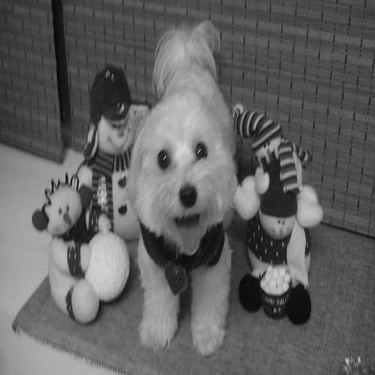dog: (115, 19, 239, 359)
